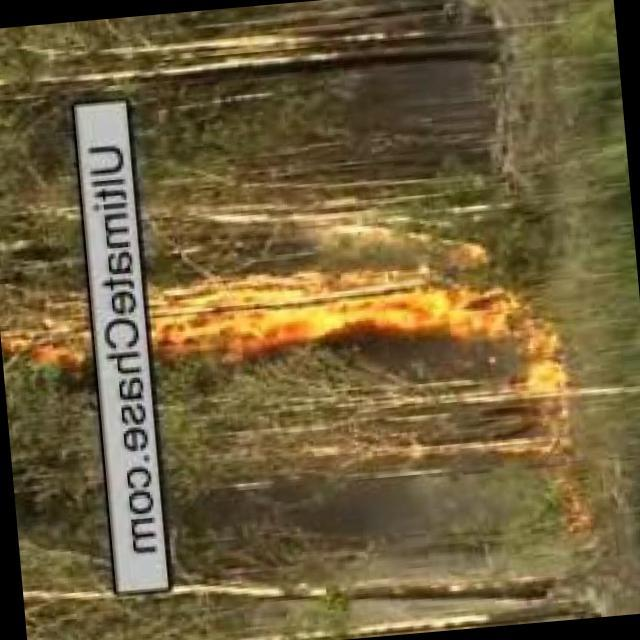Fire: (154, 257, 454, 377), (464, 264, 578, 410), (4, 310, 97, 367)
